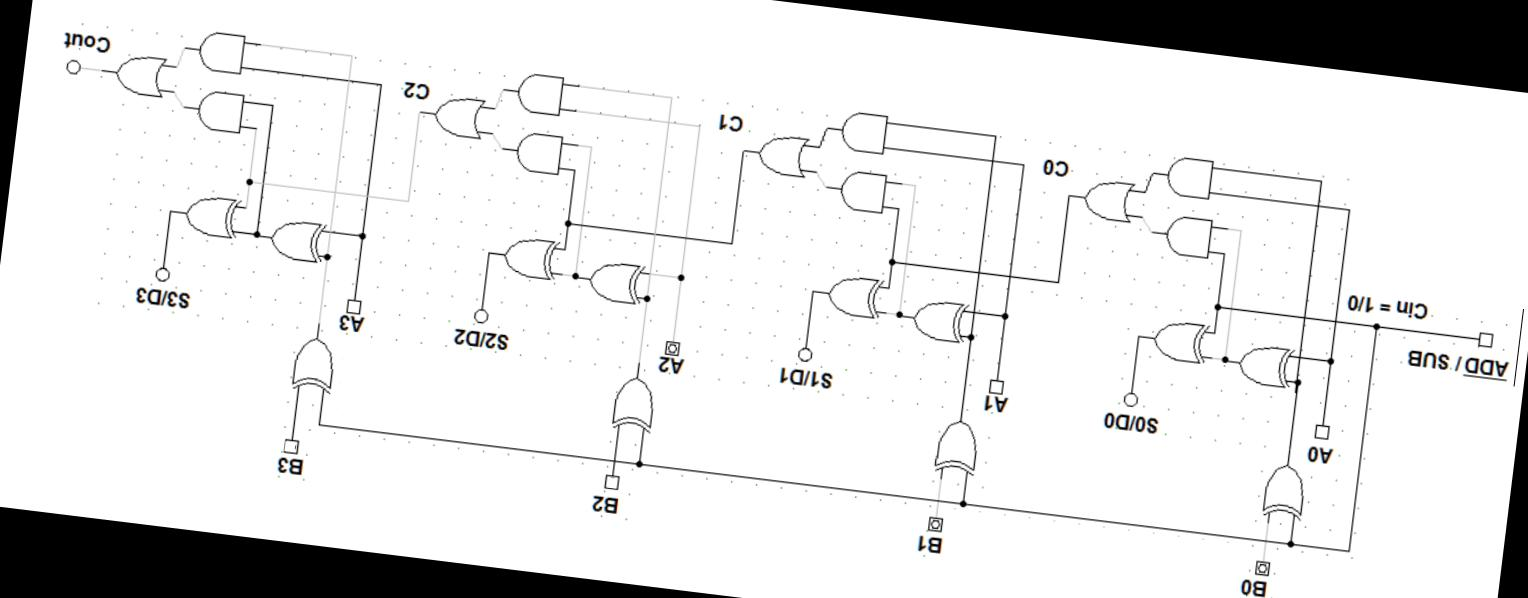and: (1153, 208, 1223, 272), (182, 80, 252, 142), (1158, 142, 1222, 209), (507, 61, 572, 124), (828, 162, 898, 219), (191, 16, 251, 81), (506, 126, 573, 182), (834, 102, 897, 159)
or: (1068, 166, 1142, 232), (749, 126, 815, 182), (108, 43, 168, 103), (426, 89, 487, 144)
xor: (898, 406, 995, 486), (1238, 454, 1318, 532), (266, 328, 346, 405), (594, 363, 666, 440), (812, 261, 892, 327), (261, 206, 328, 277), (580, 252, 645, 318), (496, 226, 560, 292), (1230, 337, 1298, 396), (180, 185, 245, 246), (908, 290, 970, 353), (1146, 314, 1208, 372)
